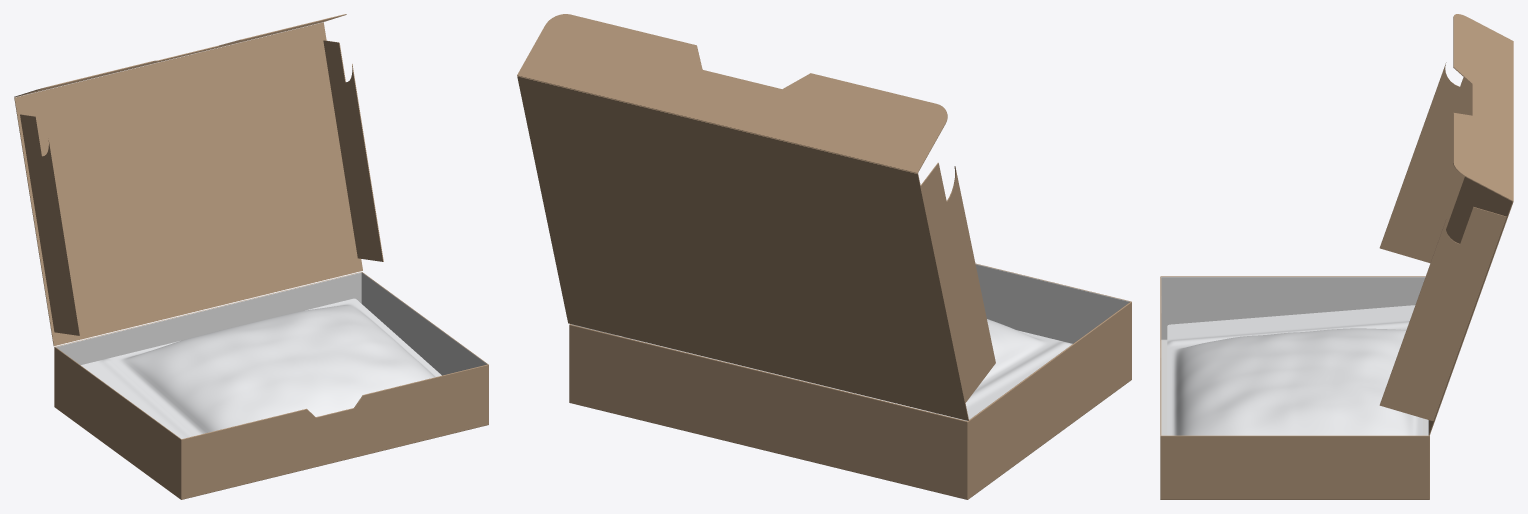
The model's file is flower-box-premium-open.glb.
The picture shows the model from 3 angles, left to right: view 1: azimuth 30°, elevation 25°; view 2: azimuth 150°, elevation 25°; view 3: azimuth 270°, elevation 25°; orthographic projection. The views are drawn at different scales.
Parts seen in each view (by area): view 1: fgift_lid, fgift_tray, fgp, fgift_ear1, fgift_ear-1, fgift_front; view 2: fgift_lid, fgift_tray, fgift_front, fgift_ear-1, fgp; view 3: fgift_tray, fgp, fgift_ear1, fgift_front, fgift_ear-1, fgift_lid.
Boxes of the visible parts, x1=… form: fgift_lid: x1=14, y1=22, x2=362, y2=345; fgift_tray: x1=54, y1=272, x2=488, y2=499; fgp: x1=81, y1=298, x2=441, y2=438; fgift_ear1: x1=323, y1=40, x2=383, y2=261; fgift_ear-1: x1=20, y1=114, x2=80, y2=335; fgift_front: x1=14, y1=14, x2=346, y2=97; fgift_lid: x1=517, y1=76, x2=968, y2=420; fgift_tray: x1=569, y1=263, x2=1131, y2=499; fgift_front: x1=517, y1=14, x2=947, y2=173; fgift_ear-1: x1=917, y1=162, x2=995, y2=406; fgp: x1=616, y1=319, x2=1072, y2=421; fgift_tray: x1=1160, y1=276, x2=1429, y2=499; fgp: x1=1167, y1=305, x2=1422, y2=435; fgift_ear1: x1=1379, y1=207, x2=1506, y2=421; fgift_front: x1=1453, y1=14, x2=1513, y2=201; fgift_ear-1: x1=1379, y1=62, x2=1471, y2=263; fgift_lid: x1=1429, y1=177, x2=1513, y2=435.
Size of the model in its own units: 0.2109 by 0.2032 by 0.1967.
